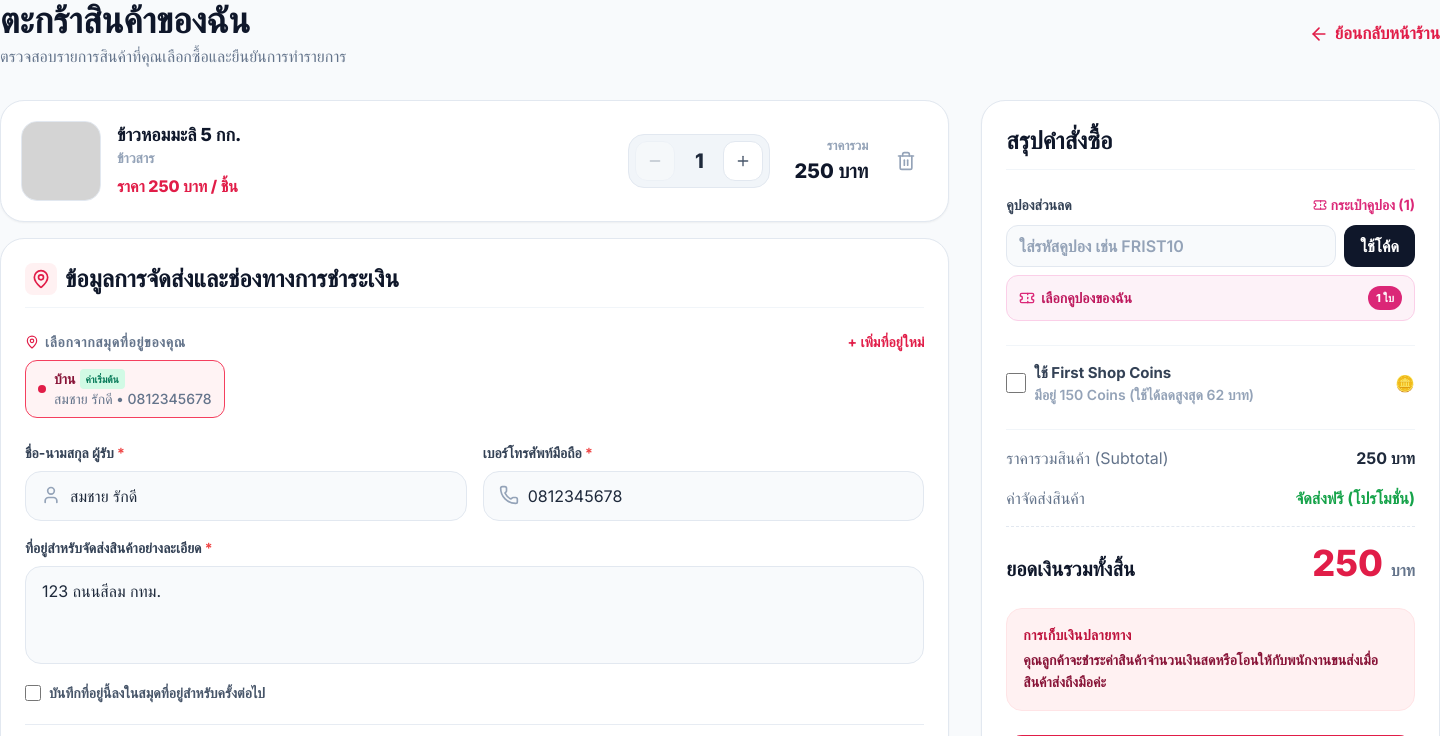
Test: CartPage Voucher Wallet Integration › allows 1-click apply of eligible voucher and recalculates total discount
The width and height of the screenshot is (1440, 736).
# Open voucher modal
Step 1. Click the button with test id "select-my-vouchers-btn" → [1087, 298], box [1006,275,1415,321]
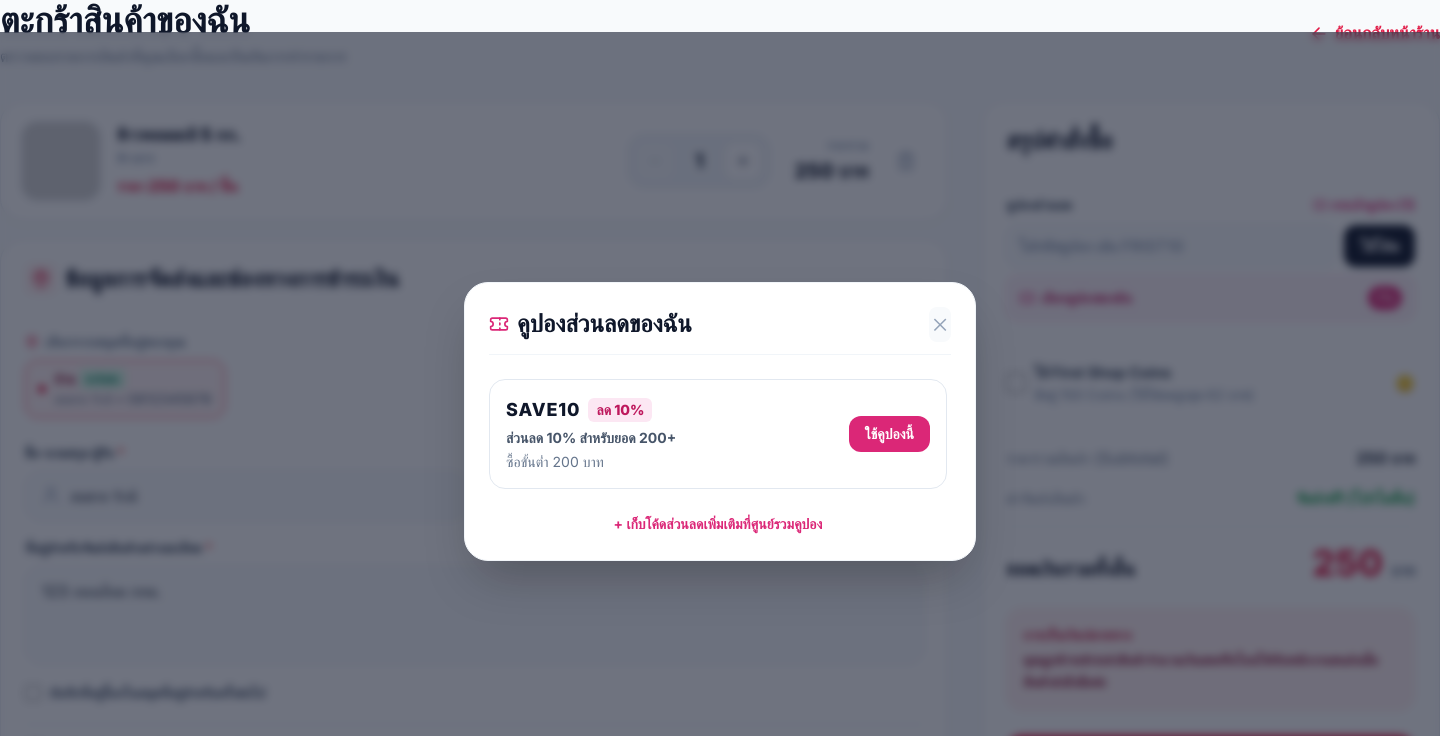
Expected: the button with test id "apply-voucher-btn-SAVE10" is shown
# 1-click apply
Step 2. Click the button with test id "apply-voucher-btn-SAVE10" → [889, 434], box [849,416,930,452]
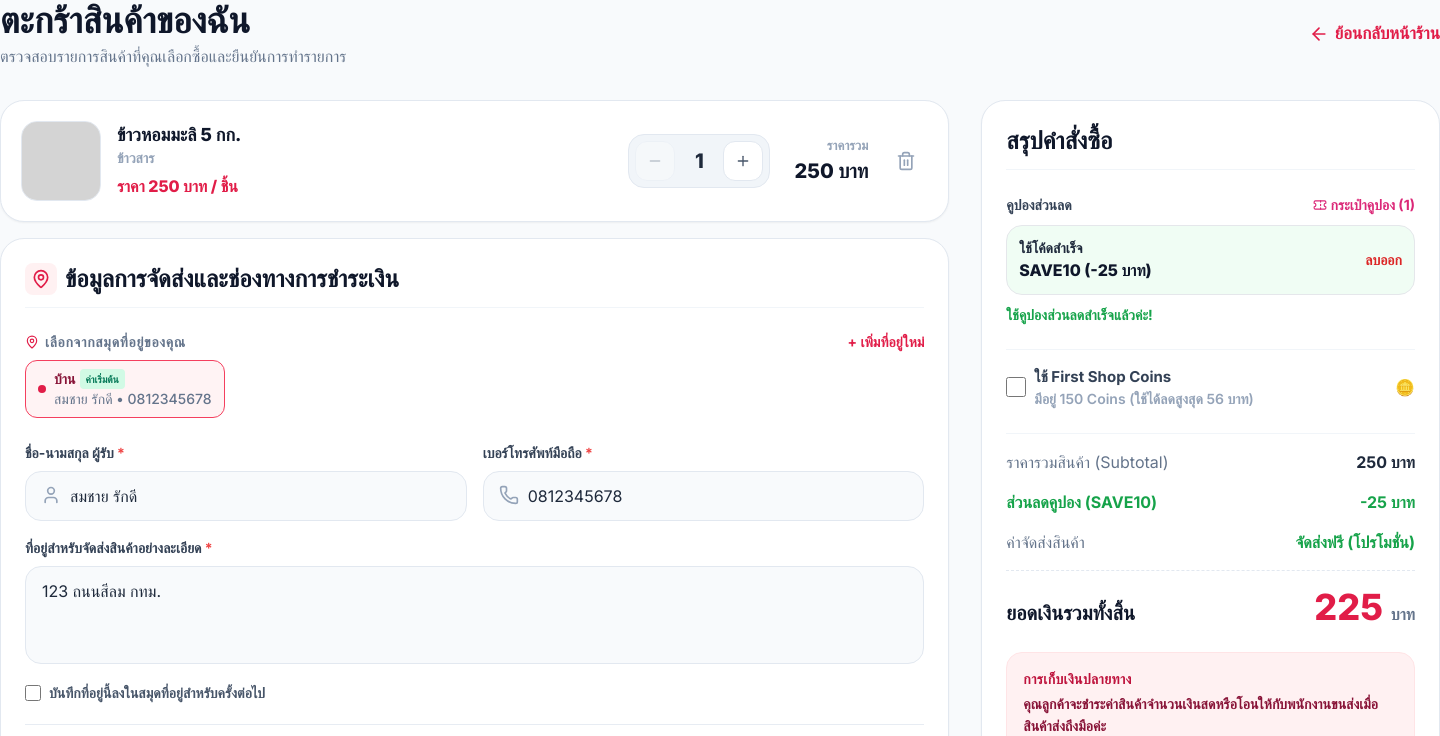
Expected: the text "ใช้คูปองส่วนลดสำเร็จแล้วค่ะ!" is shown, [1006,306,1153,323]
